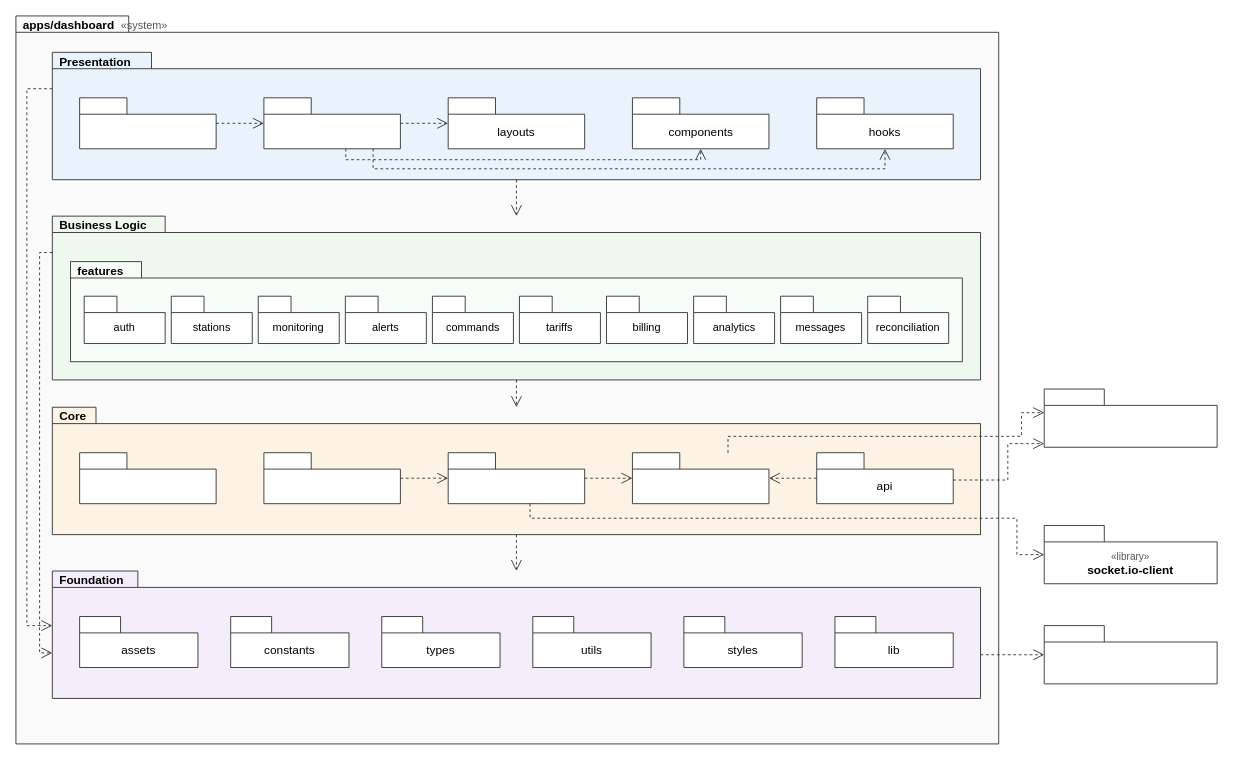
This 1233x760 diagram has some shape labels left out. Here are the shapes that lost their labels. From the top down, the centre of each, then its label:
pixel 147 123: routes
pixel 331 123: pages
pixel 1130 417: «library» Redux Toolkit
pixel 147 478: config
pixel 331 478: context
pixel 516 478: realtime
pixel 700 478: store
pixel 1130 654: «library» @powerme/shared
